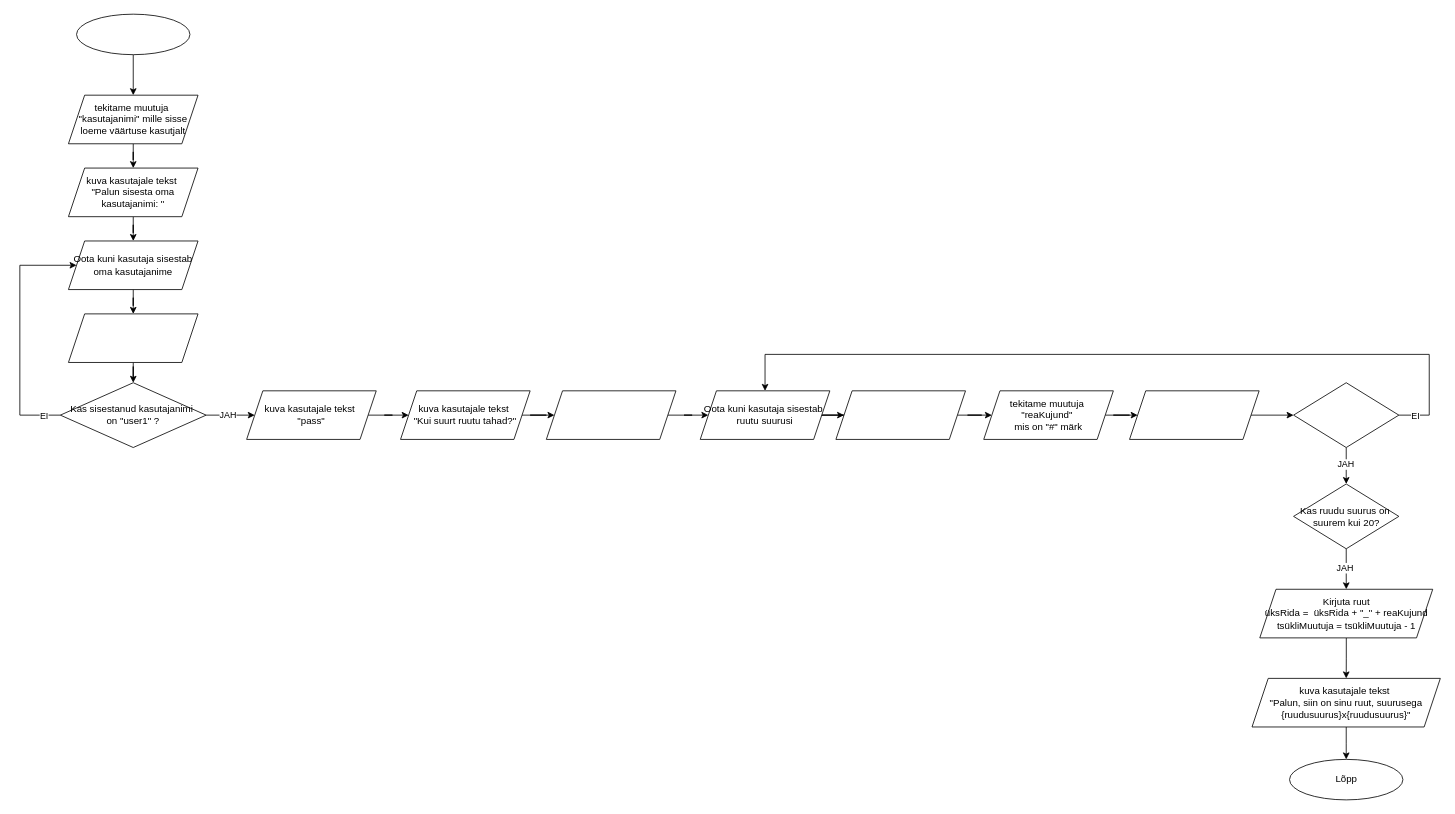
The diagram is 1455 pixels wide and 814 high, and some of its shapes have lost their labels. The centre of each missing label's shape, as x and y in pixels:
Algus: the point at 133,34
Kas ruudu suurus on suurem kui 0?: the point at 1346,415
tekitame muutuja "ruudusuurus" mille sisse loeme väärtuse kasutjalt: the point at 611,414
tekitame muutuja "tsüklimuutuja" mis on v õrdne "ruudusuurus": the point at 900,414
tekitame muutuja "üksRida" üksRida = " ": the point at 1194,414
tekkitame muutujasse "kasutajanimi" õige vastus "user1": the point at 133,337
